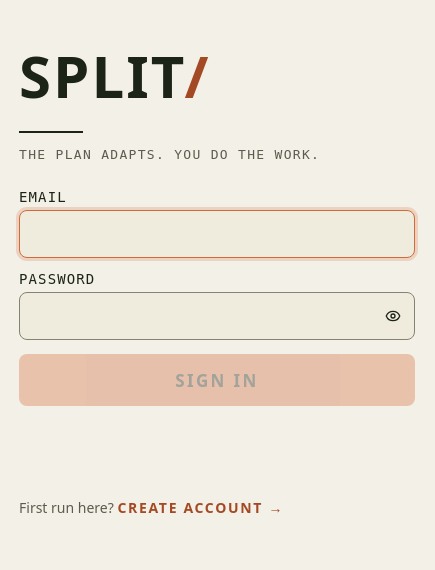
Test: LoginPage › server-side error surfacing › renders ProblemDetails.title as a non-field-level alert
Type "runner@example.com" into the field labelled "Email".
click(217, 234); type("runner@example.com")  # box [19,210,415,258]
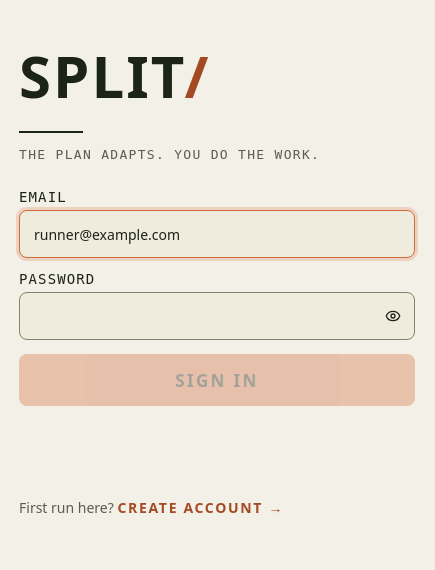
Type "StrongPassw0rd!" into the password field labelled "Password".
click(217, 316); type("StrongPassw0rd!")  # box [19,292,415,340]
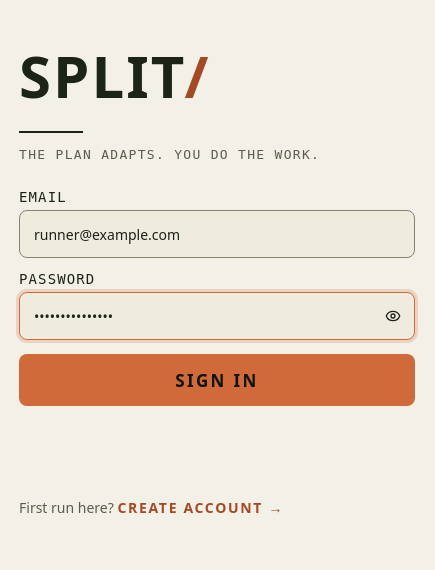
Check: the button "Sign in" is enabled
Click the button "Sign in".
click(217, 380)  # box [19,354,415,406]
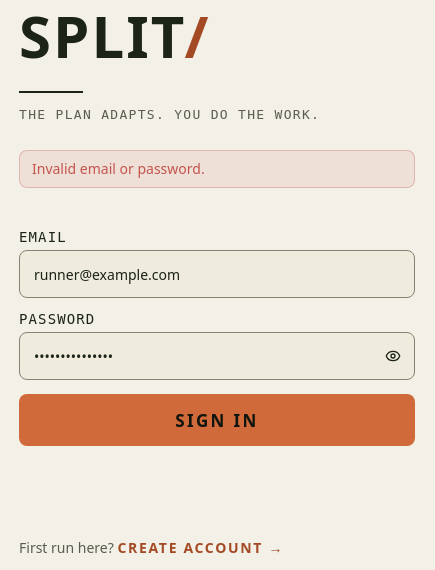
Check: the message with test id "form-alert" reads "Invalid email or password.", box [32,159,205,178]
